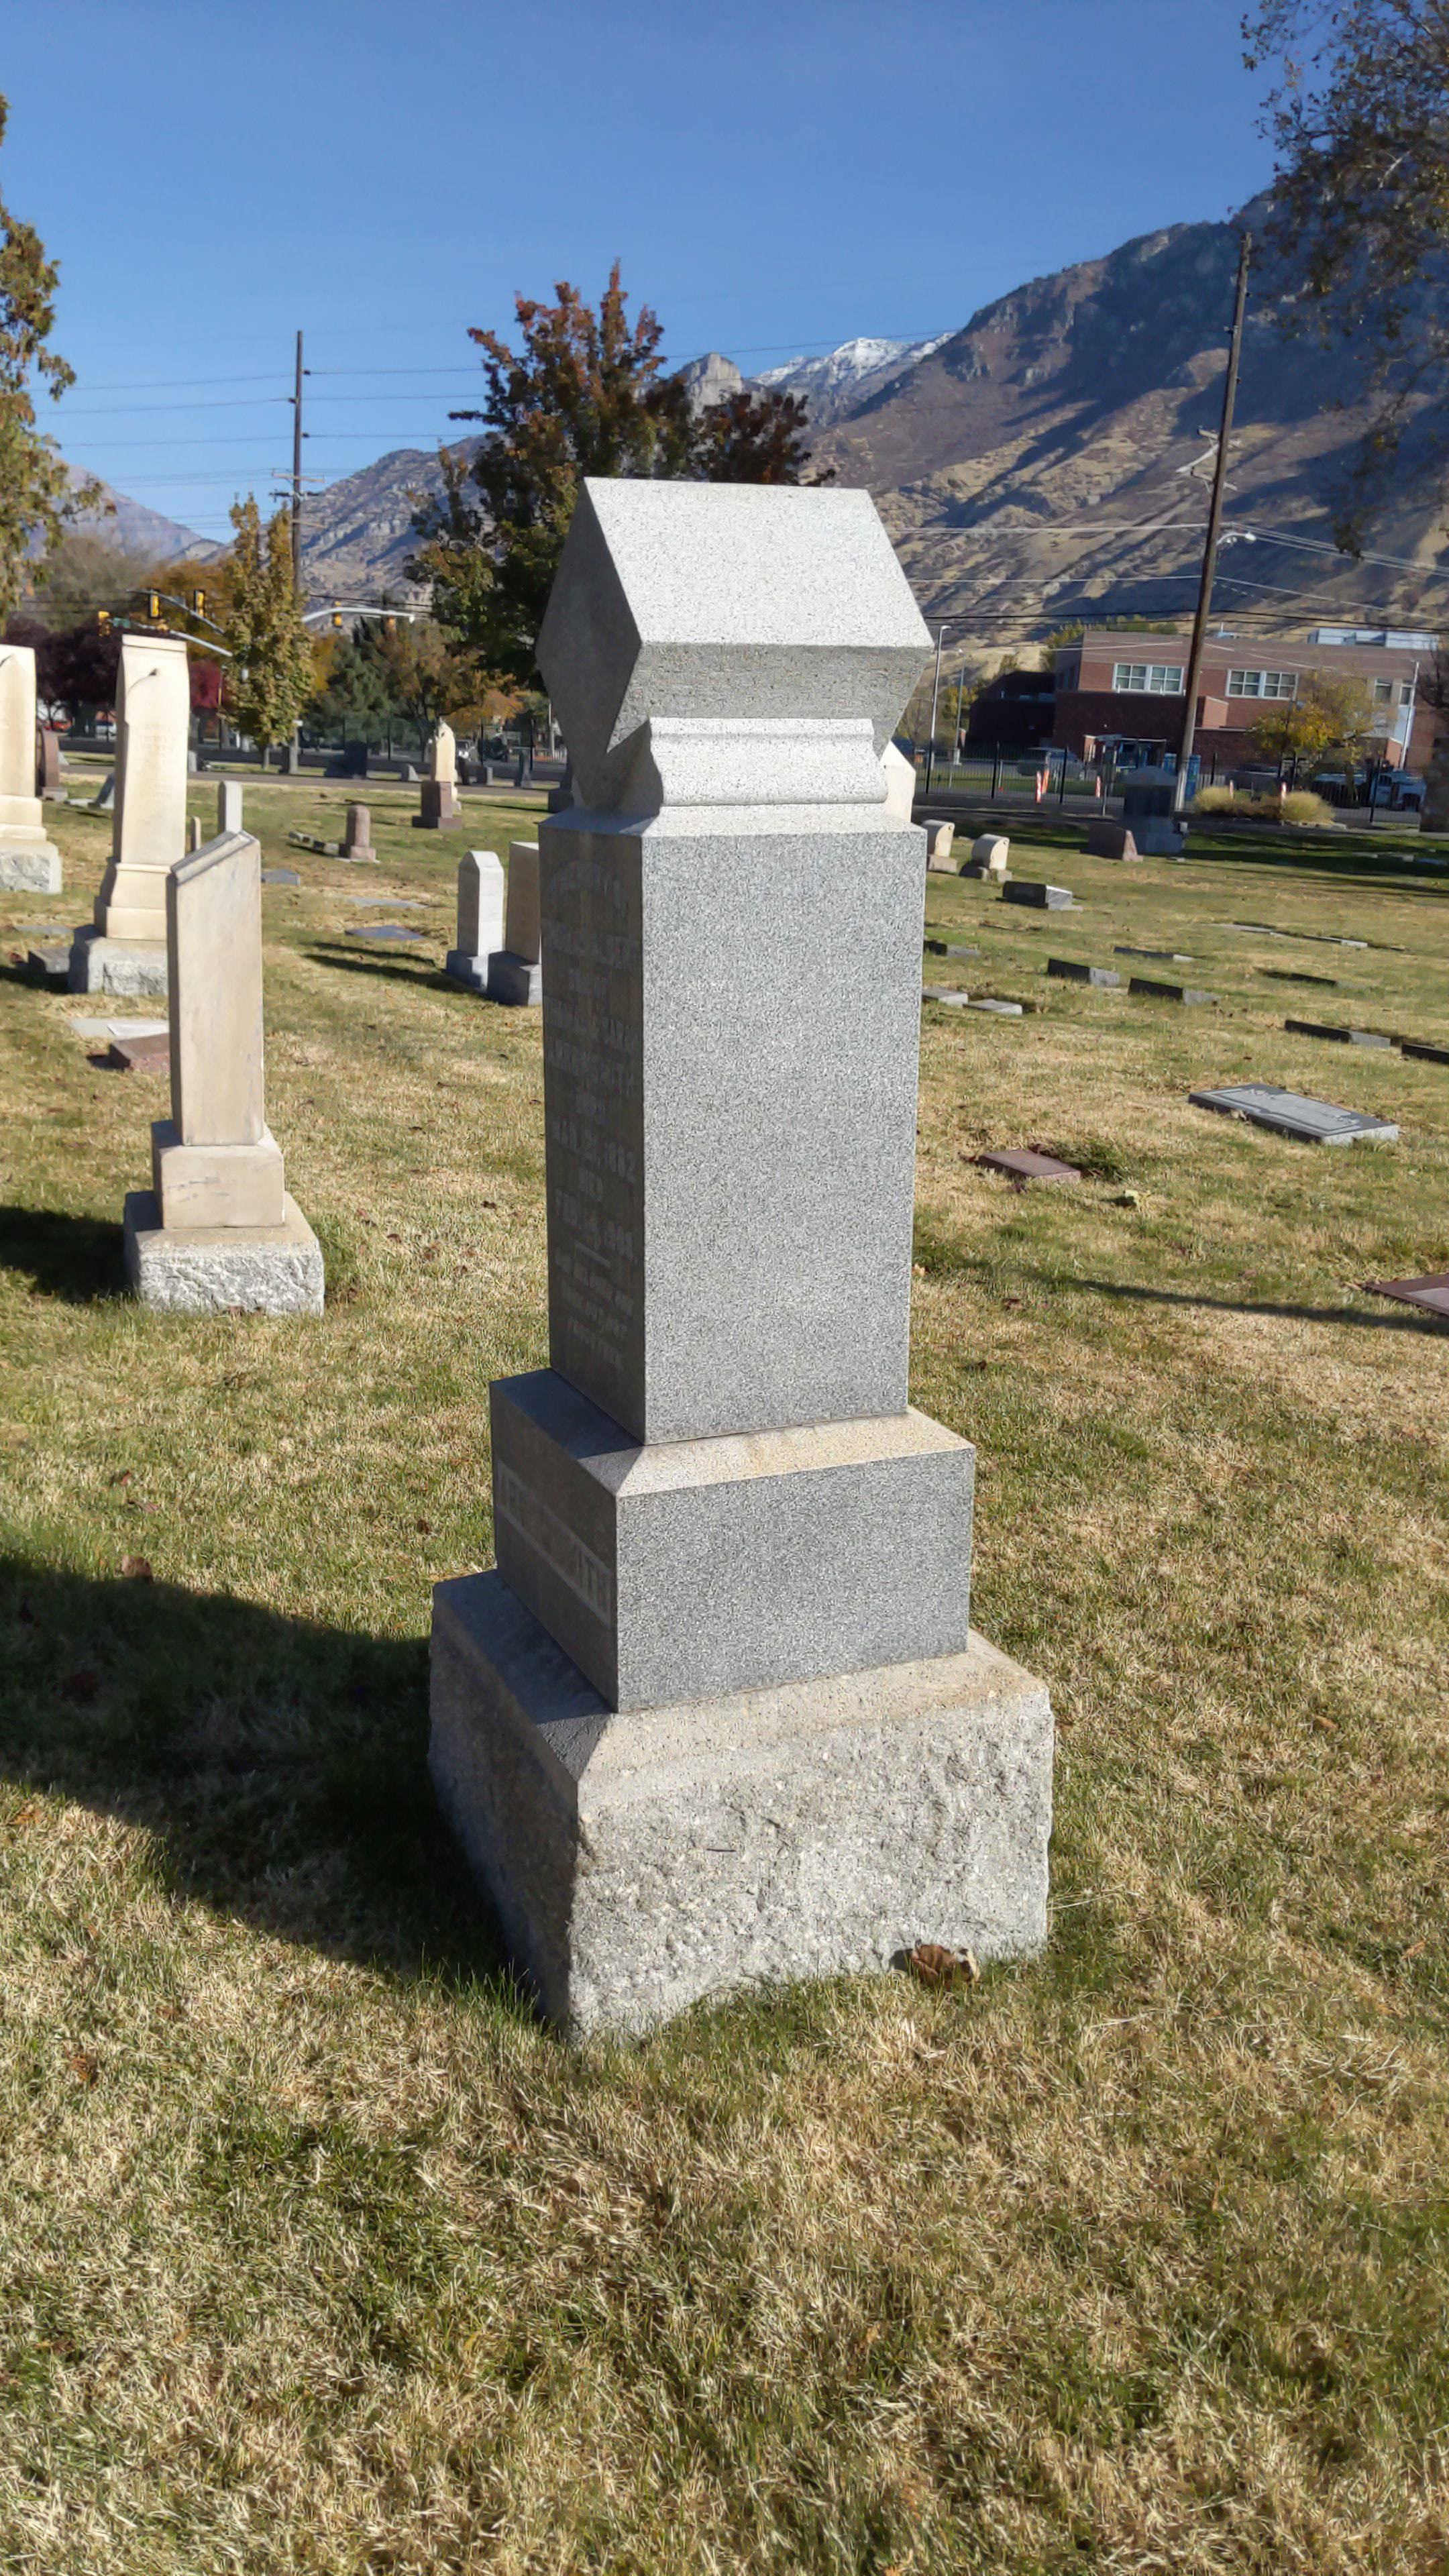obelisk: (490, 476, 978, 1698)
